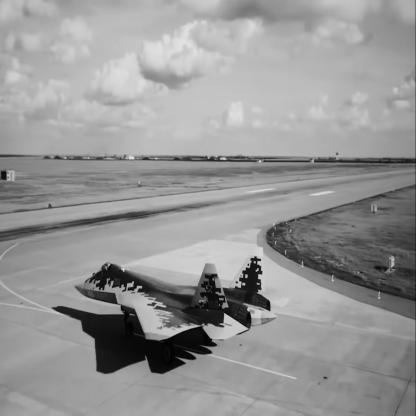Su57: (75, 247, 279, 365)
